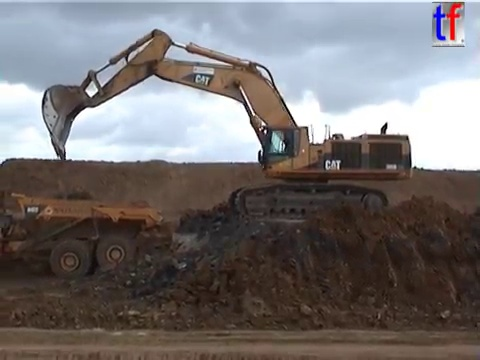excavator: (39, 27, 415, 223)
truck: (1, 188, 166, 282)
